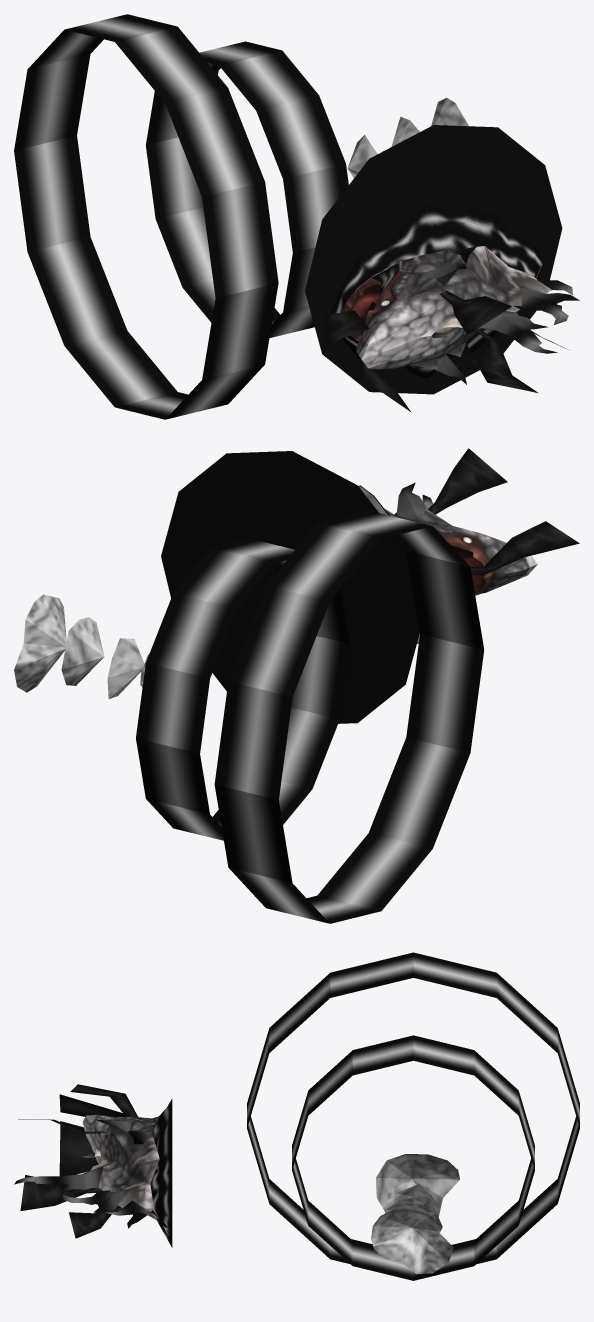
3 renders of one model, top to bottom at view 1: azimuth 30°, elevation 25°; view 2: azimuth 150°, elevation 25°; view 3: azimuth 270°, elevation 25°, orthographic. The views are drawn at different scales.
Parts seen in each view (by area): view 1: M_0010_1, M_0010_0; view 2: M_0010_1, M_0010_0; view 3: M_0010_1, M_0010_0.
Boxes of the visible parts, left/top/right/bottom form: M_0010_1: left=14, top=14, right=579, bottom=419; M_0010_0: left=342, top=97, right=551, bottom=369; M_0010_1: left=136, top=448, right=579, bottom=923; M_0010_0: left=14, top=486, right=537, bottom=698; M_0010_1: left=14, top=952, right=579, bottom=1280; M_0010_0: left=82, top=1114, right=459, bottom=1274.
Bounding box in the file's own units: 3.94 × 4.09 × 6.95.
Materials: 2 (2 with a texture image).
